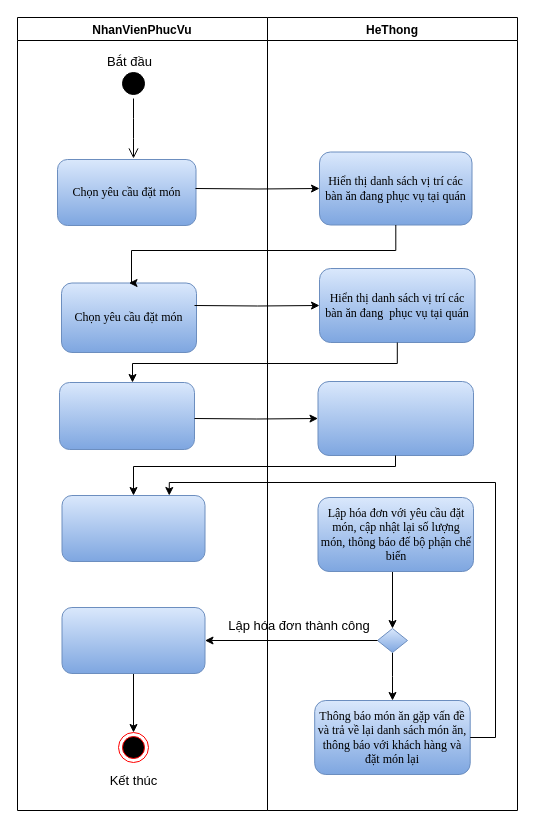
The diagram is 535 pixels wide and 828 high, and some of its shapes have lost their labels. The centre of each missing label's shape, as x and y in pixels:
"Cho khách hàng chọn món, xác nhận lập hóa đơn với món ăn" belongs at (133,528).
"Chọn vị trí khách hàng đang ngồi" belongs at (126,416).
"Lấy danh sách món hiện có trong thời điểm hiện tại" belongs at (395,418).
"Đưa cho khách hàng kiểm tra và xác nhận" belongs at (133,640).
